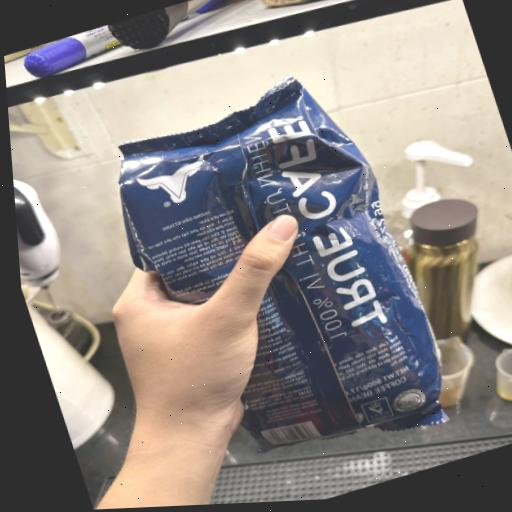cafe_hat: (120, 77, 446, 449)
